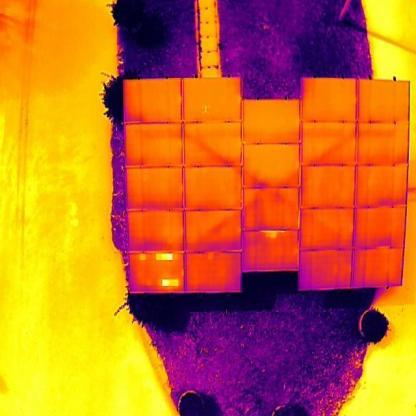anomaly: (155, 252, 175, 263), (159, 278, 182, 285)
